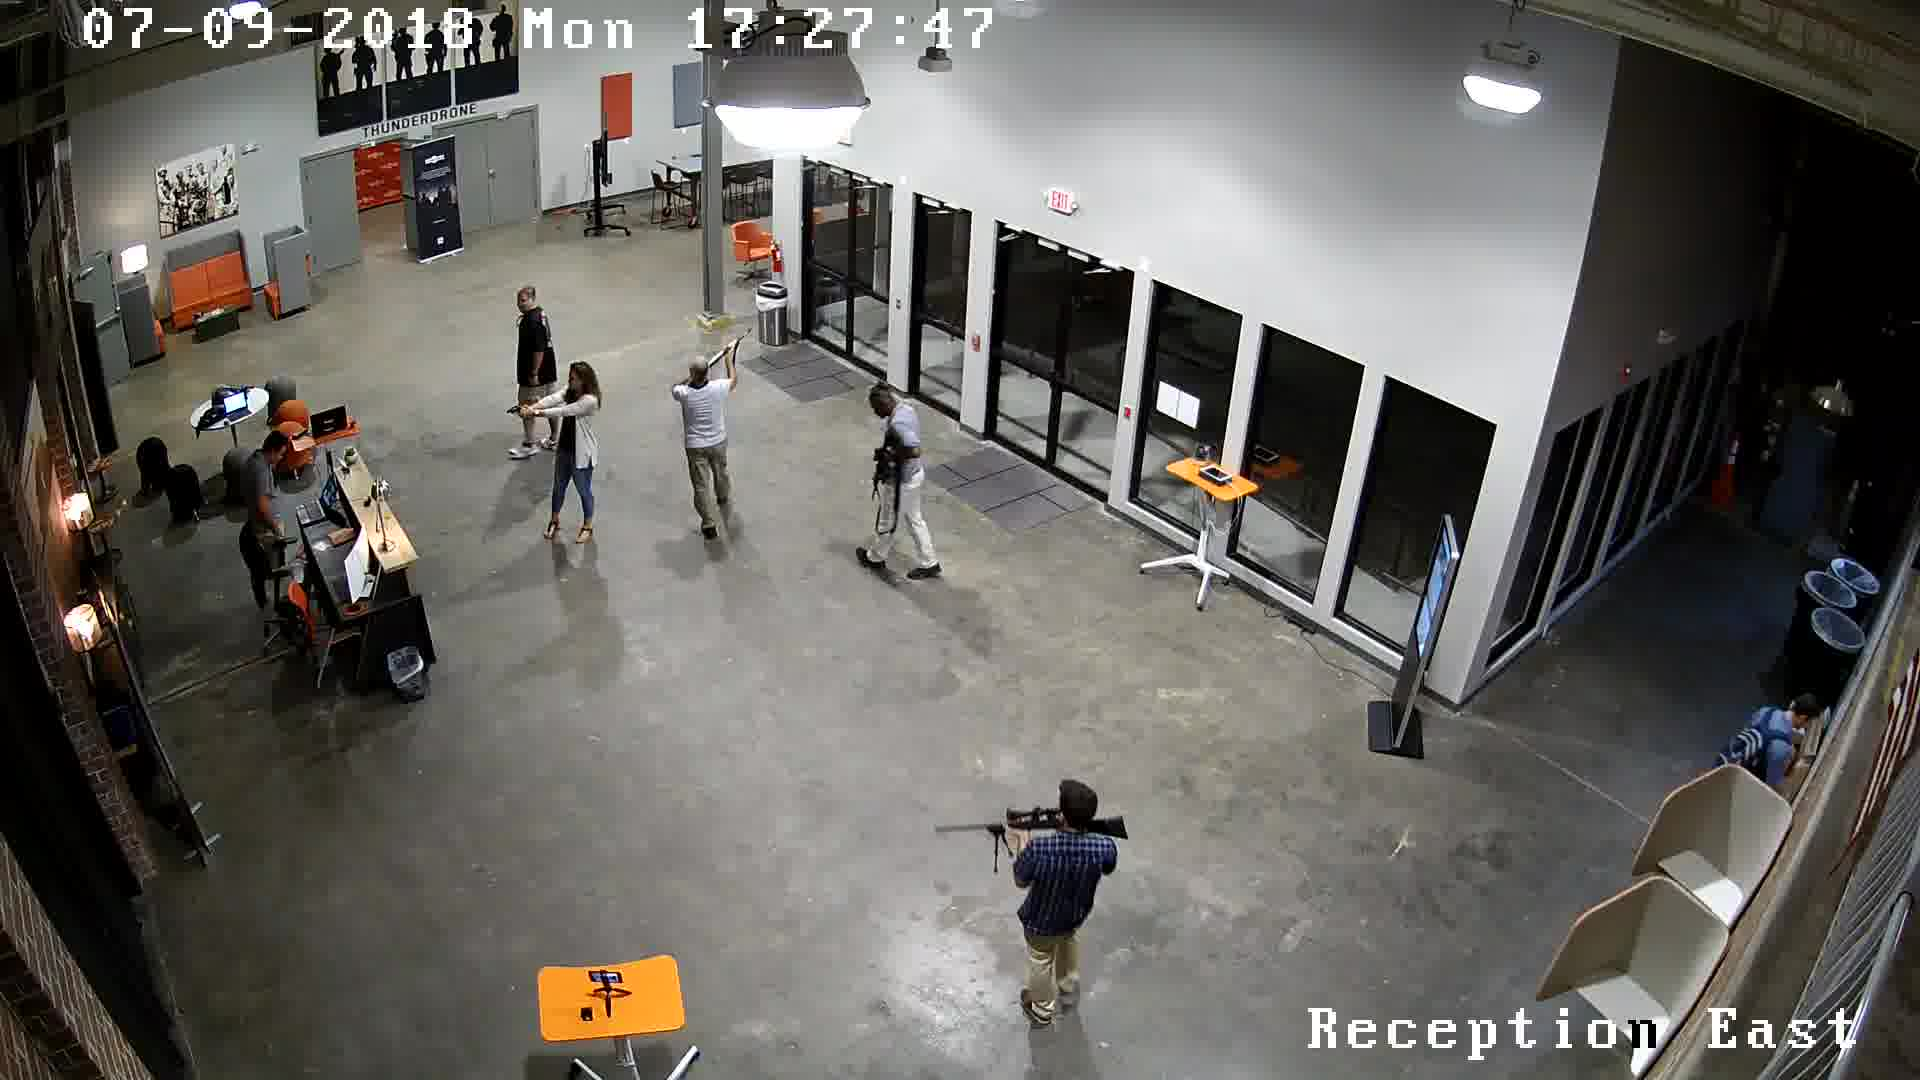pistol: (498, 397, 531, 430)
